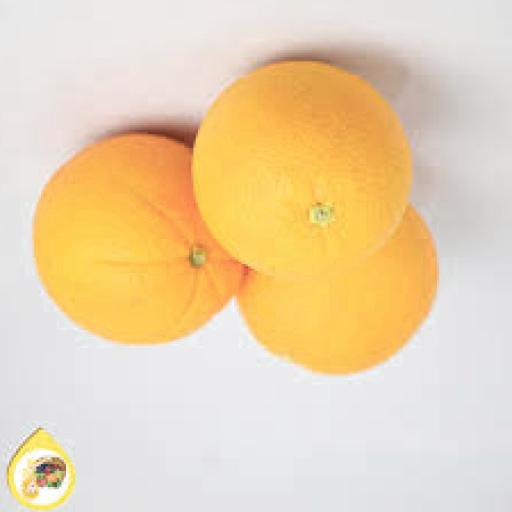orange: (193, 61, 410, 276), (34, 134, 242, 342), (236, 207, 435, 374)
